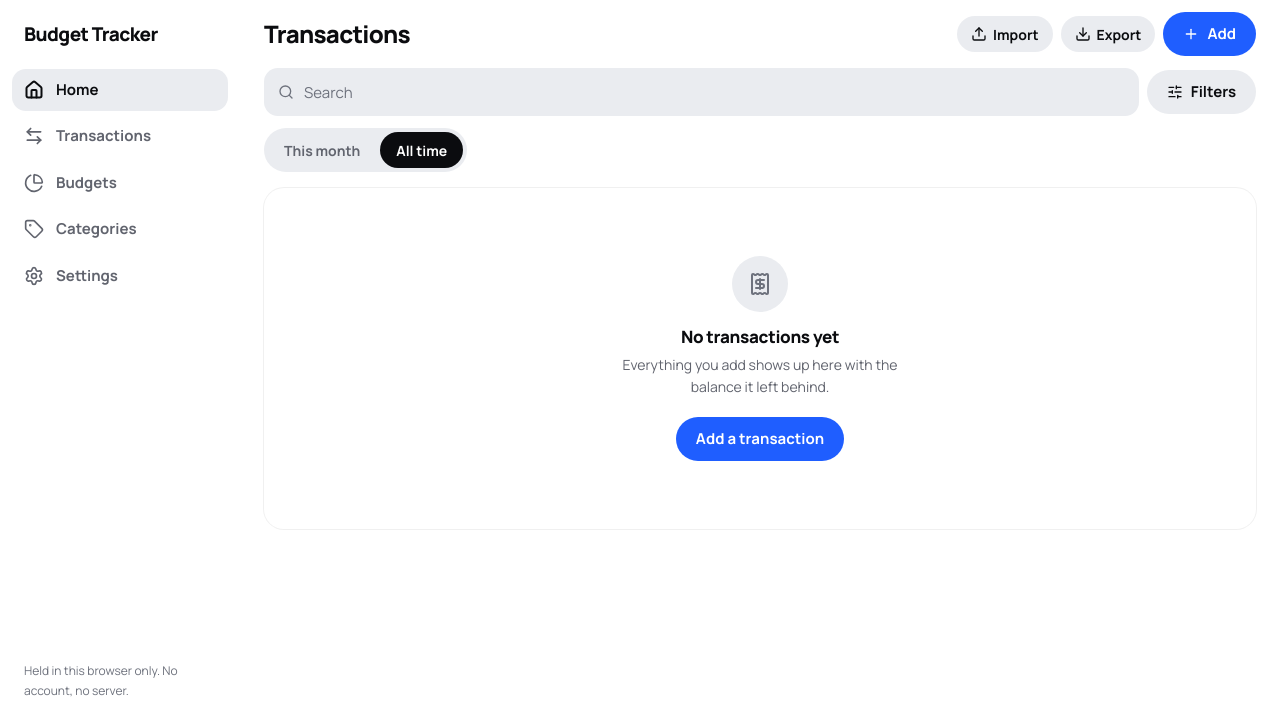
it: recording an entry › blocks submission and explains why when the form is invalid
expect the text "No transactions yet" is shown: met, box 681,325 -> 839,348
Click the button with aria-label "add transaction". click: (1210, 34)
box: 1163,12 -> 1256,56
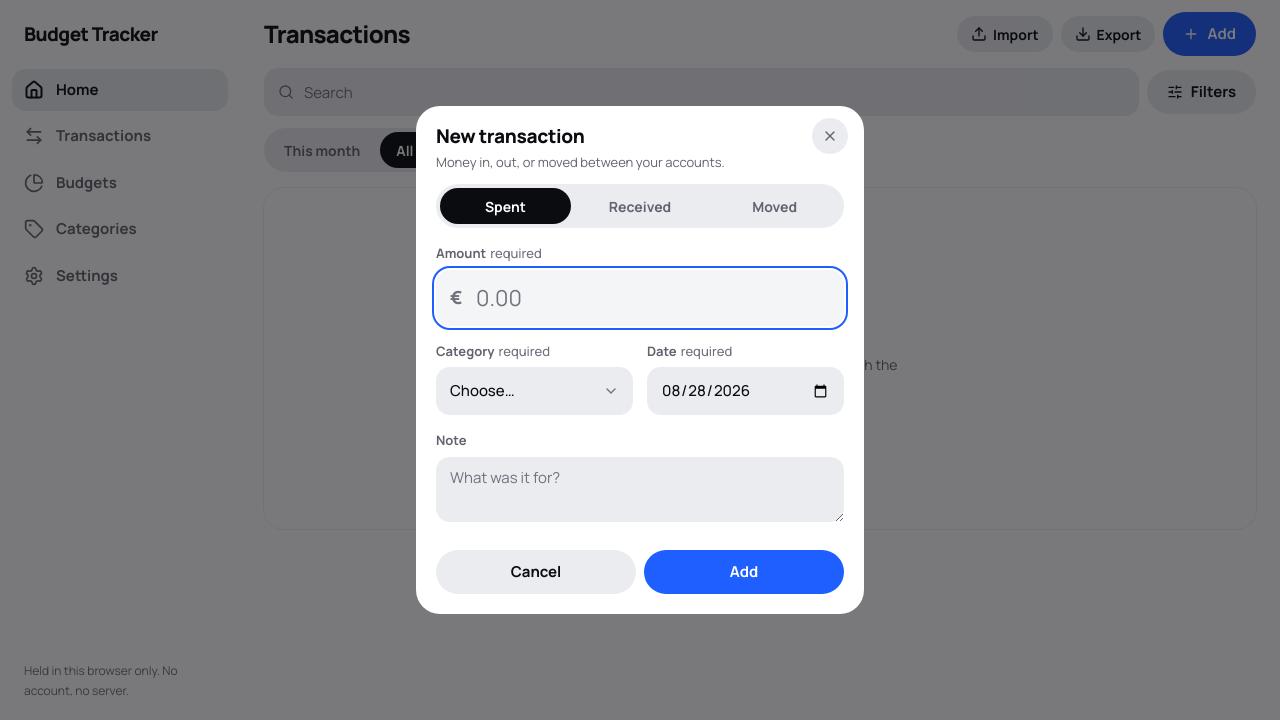
Click the button "Add". click: (744, 572)
box: 644,550 -> 844,594
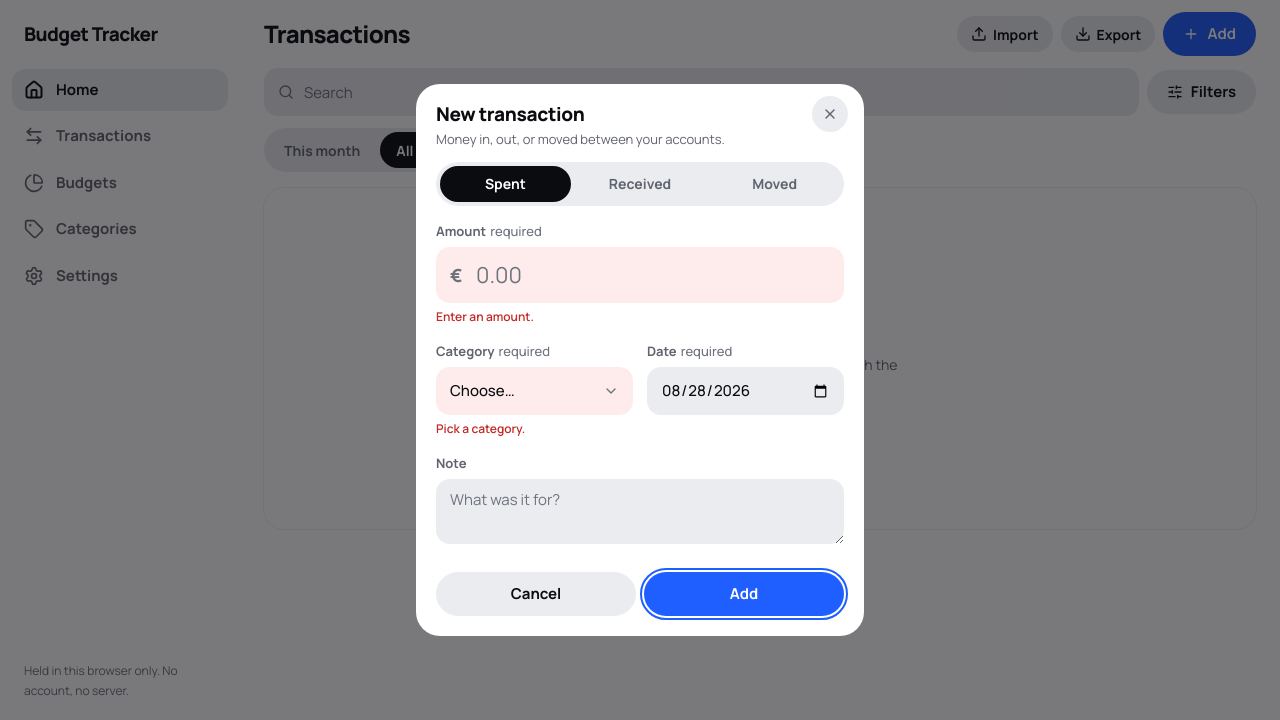
expect the dialog is shown: met, box 416,84 -> 864,636
expect the text "Enter an amount." is shown: met, box 436,308 -> 534,325
expect the text "Pick a category." is shown: met, box 436,420 -> 525,437
